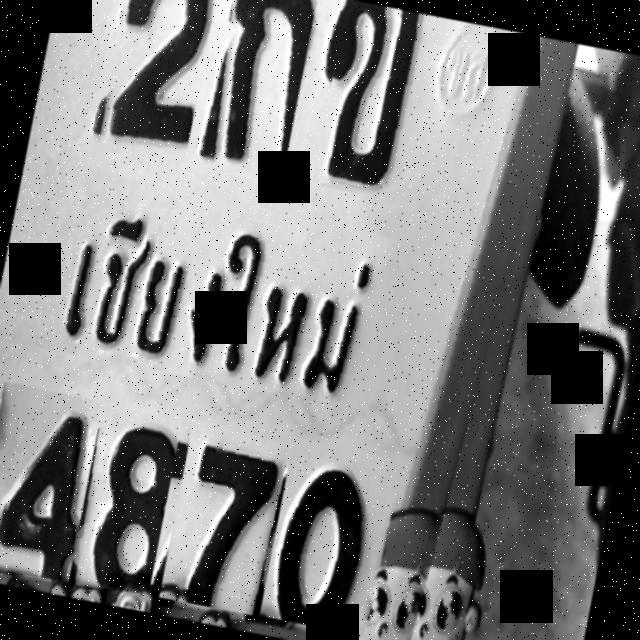letters: (260, 436, 404, 637), (159, 418, 292, 616), (312, 0, 436, 199), (68, 406, 182, 599), (92, 0, 220, 167), (200, 0, 318, 180), (0, 382, 103, 584)
license-plate: (0, 0, 567, 640)
province: (11, 156, 416, 414)
